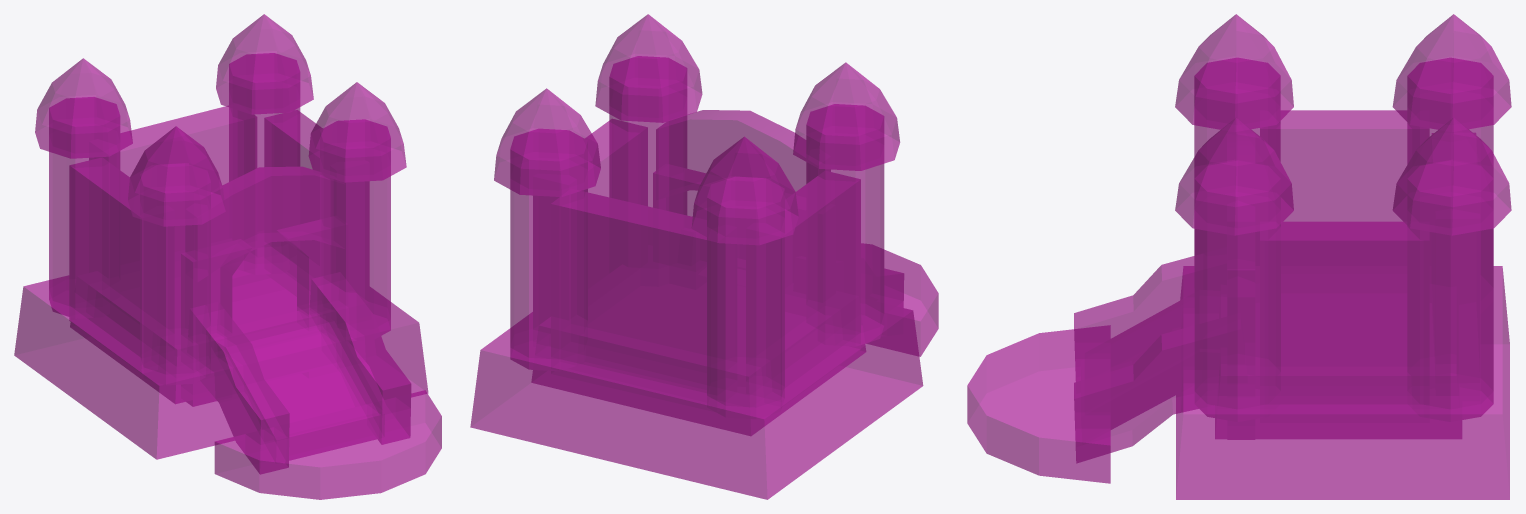
Rendered from SM_Prop_Bouncy_Castle_01_Collision.fbx.
The picture shows the model from 3 angles, left to right: view 1: azimuth 30°, elevation 25°; view 2: azimuth 150°, elevation 25°; view 3: azimuth 270°, elevation 25°; orthographic projection. The views are drawn at different scales.
Parts seen in each view (by area): view 1: SM_Prop_Bouncy_Castle_01_Collision; view 2: SM_Prop_Bouncy_Castle_01_Collision; view 3: SM_Prop_Bouncy_Castle_01_Collision.
Boxes of the visible parts, x1=… form: SM_Prop_Bouncy_Castle_01_Collision: x1=14, y1=14, x2=441, y2=499; SM_Prop_Bouncy_Castle_01_Collision: x1=470, y1=14, x2=938, y2=499; SM_Prop_Bouncy_Castle_01_Collision: x1=967, y1=14, x2=1511, y2=499.
Size of the model in its own units: 544 by 584 by 805.
